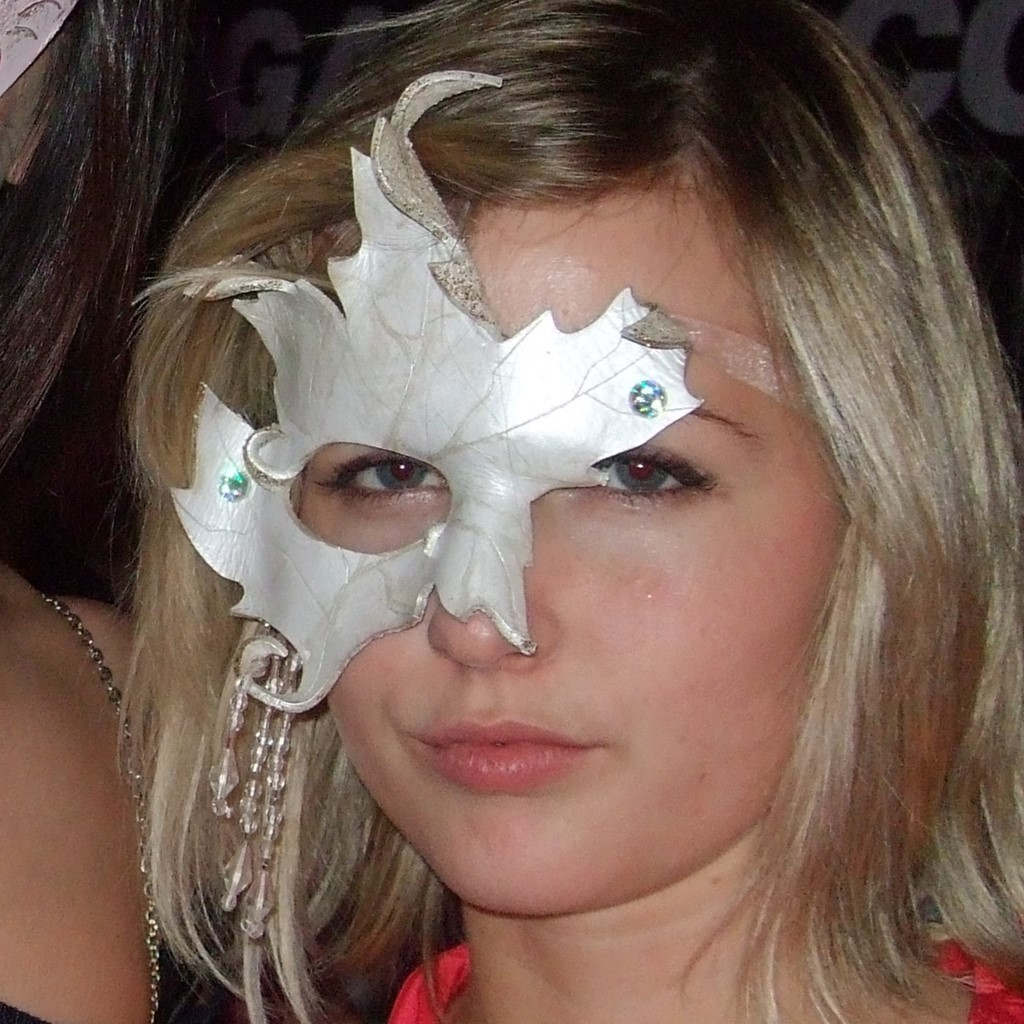sin_mascara: (305, 182, 867, 925)
